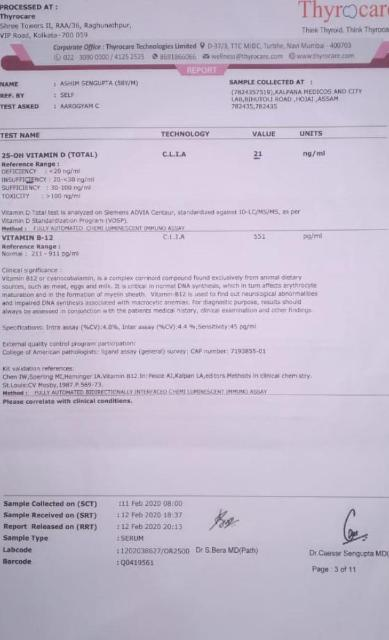Clinical_Conditions: (0, 274, 337, 320)
Name: (57, 79, 141, 88)
Ref_By: (59, 91, 77, 99)
Technology: (159, 149, 194, 163), (161, 232, 189, 243)
Test_Asked: (59, 102, 102, 112)
Test_Name: (0, 145, 110, 206), (1, 233, 86, 261)
Unit: (302, 148, 330, 160), (302, 231, 328, 243)
Value: (252, 232, 273, 243), (252, 148, 268, 162)
